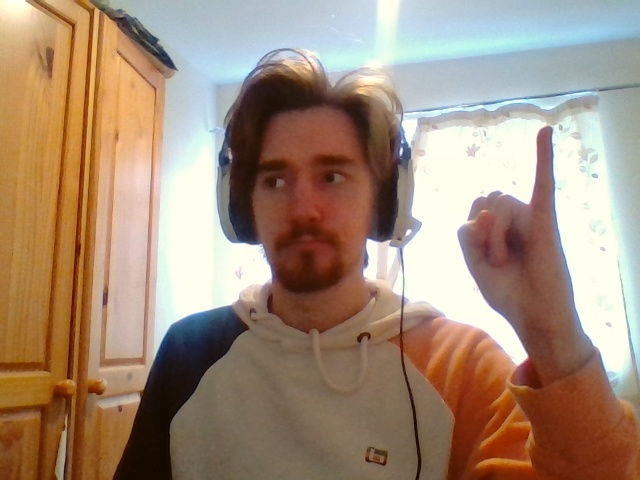bad: (459, 126, 563, 320)
